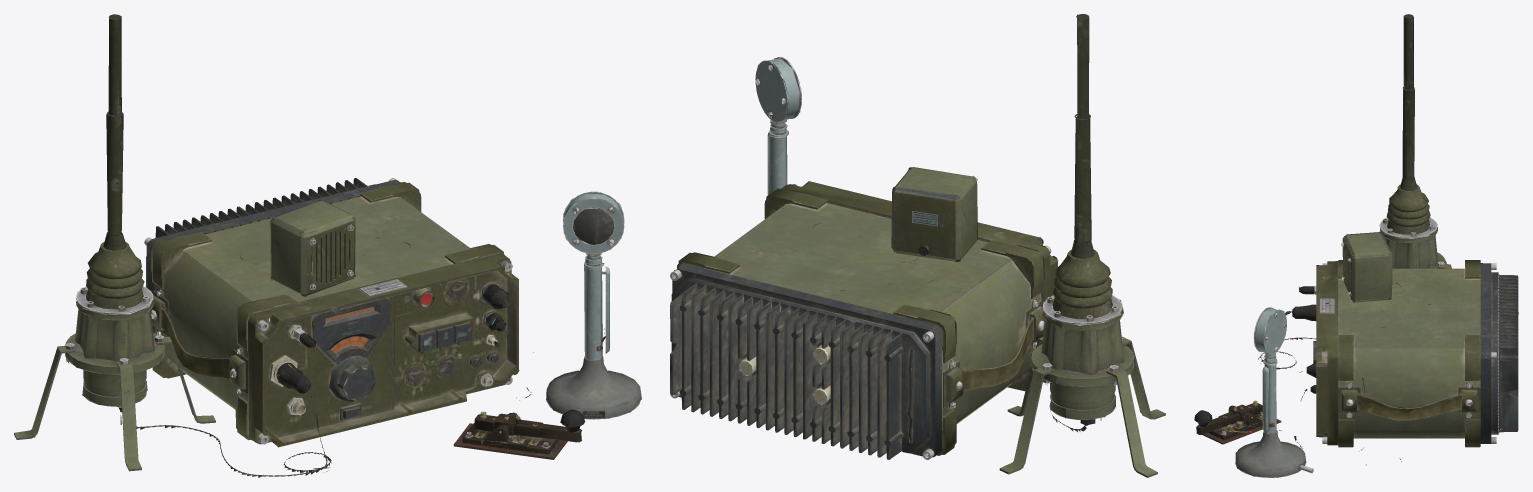
The model's file is ph_vintage_radio_transceiver.glb.
3 views of the same model, side by side, from view 1: azimuth 30°, elevation 25°; view 2: azimuth 150°, elevation 25°; view 3: azimuth 270°, elevation 25° (orthographic). The views are drawn at different scales.
Visible parts, largest first — view 1: vintage_radio_transceiver; view 2: vintage_radio_transceiver; view 3: vintage_radio_transceiver.
Boxes of the visible parts, x1,y1,x2,y2 form: vintage_radio_transceiver: (14,14,641,477); vintage_radio_transceiver: (670,14,1165,477); vintage_radio_transceiver: (1194,14,1518,477).
Bounding box in the file's own units: 0.5643 × 0.4347 × 0.4136.
2 materials, 2 textured.
